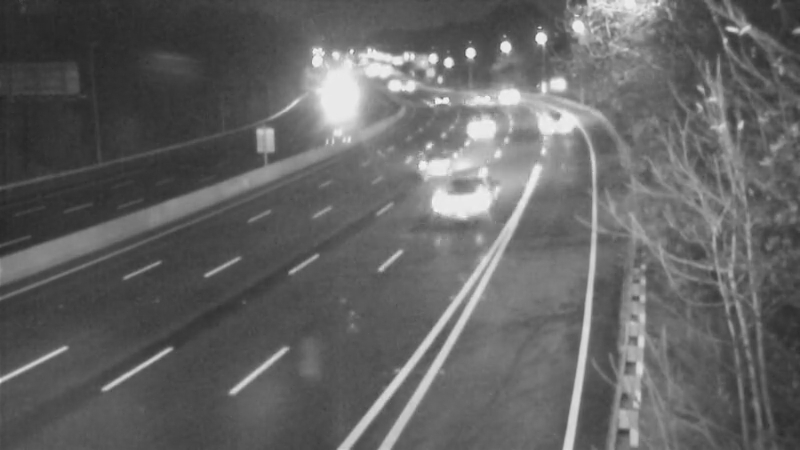vehicle: (394, 122, 474, 202), (423, 159, 503, 239), (455, 74, 505, 124), (474, 70, 524, 120), (418, 77, 468, 127), (528, 105, 578, 155), (455, 96, 505, 146)
